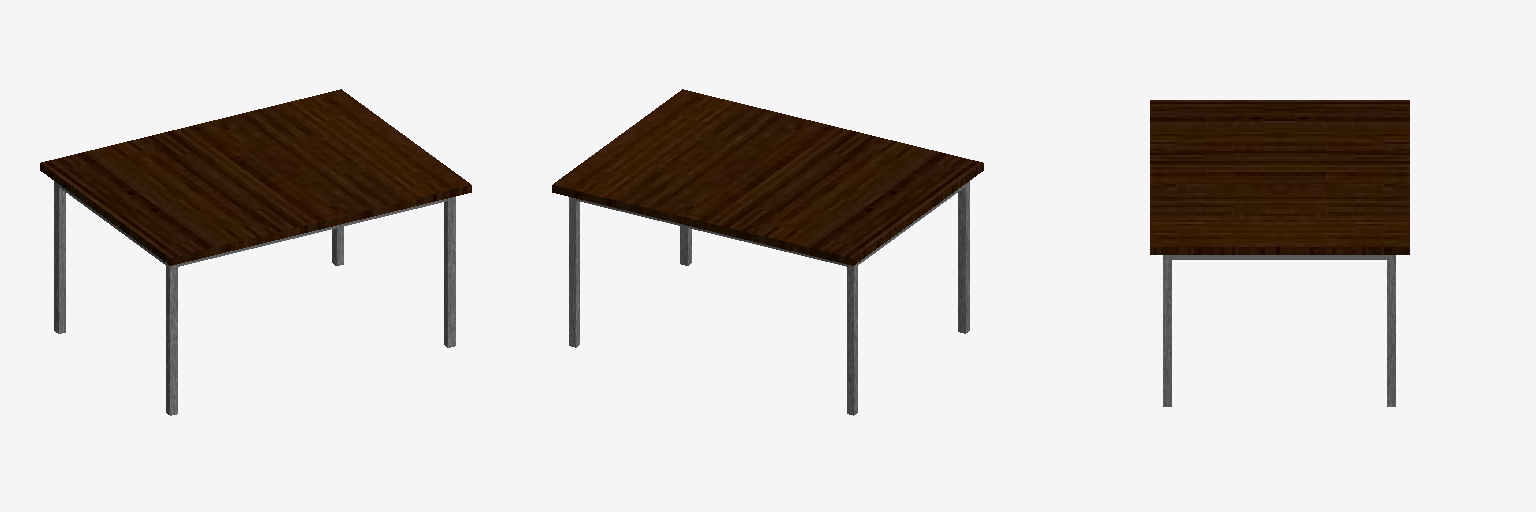
3 views of the same model, side by side, from view 1: azimuth 30°, elevation 25°; view 2: azimuth 150°, elevation 25°; view 3: azimuth 270°, elevation 25° (orthographic).
Parts seen in each view (by area): view 1: MesaProfe_Cube.002, MesaProfe.001_Cube.000; view 2: MesaProfe_Cube.002, MesaProfe.001_Cube.000; view 3: MesaProfe_Cube.002, MesaProfe.001_Cube.000.
Boxes of the visible parts, x1,y1,x2,y2 form: MesaProfe_Cube.002: [40, 89, 471, 265]; MesaProfe.001_Cube.000: [54, 181, 455, 415]; MesaProfe_Cube.002: [552, 89, 983, 265]; MesaProfe.001_Cube.000: [569, 181, 969, 415]; MesaProfe_Cube.002: [1150, 100, 1409, 254]; MesaProfe.001_Cube.000: [1163, 255, 1395, 406].
Bounding box in the file's own units: 4 × 2.09 × 3.
Materials: 2 (2 with a texture image).